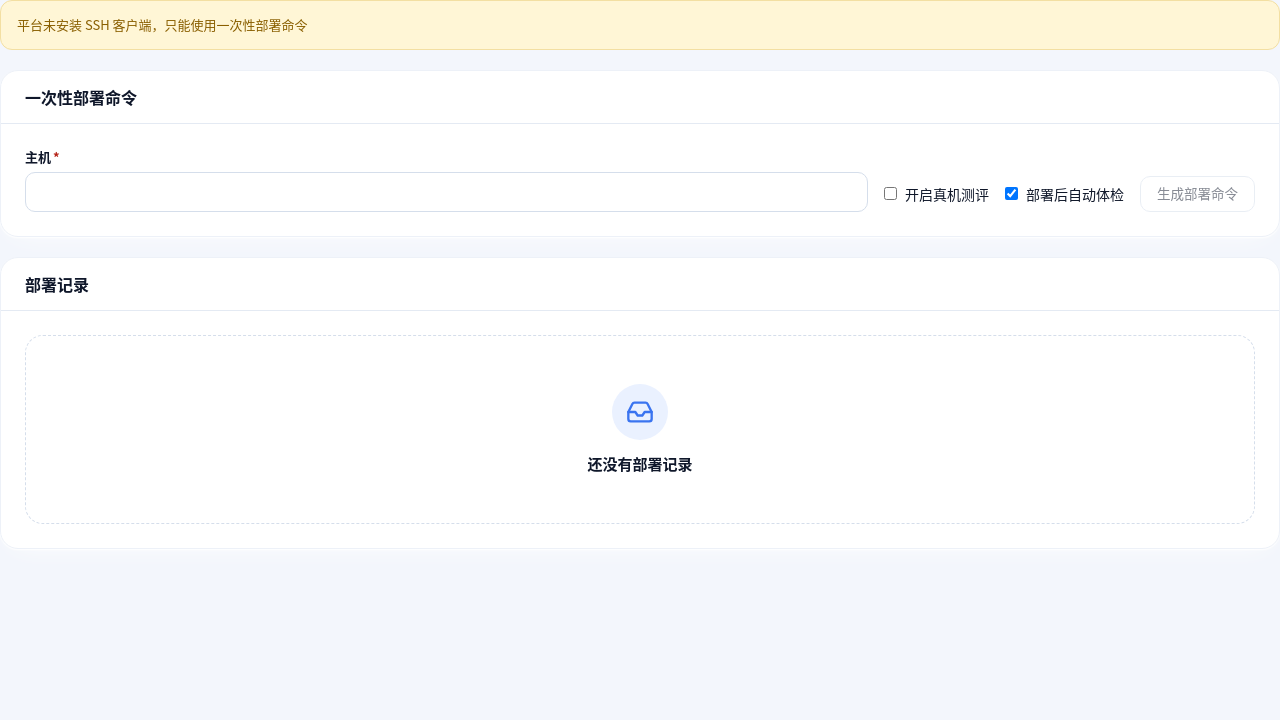
Test: RemoteDeployTab › capability.ssh = false 时不显示 SSH 表单，只有一次性部署命令
Expected: the text "平台未安装 SSH 客户端，只能使用一次性部署命令" is shown, [0,0,1279,50]
Type "10.0.0.9" into the field labelled "主机*" at (446, 192), box [25,172,868,212]
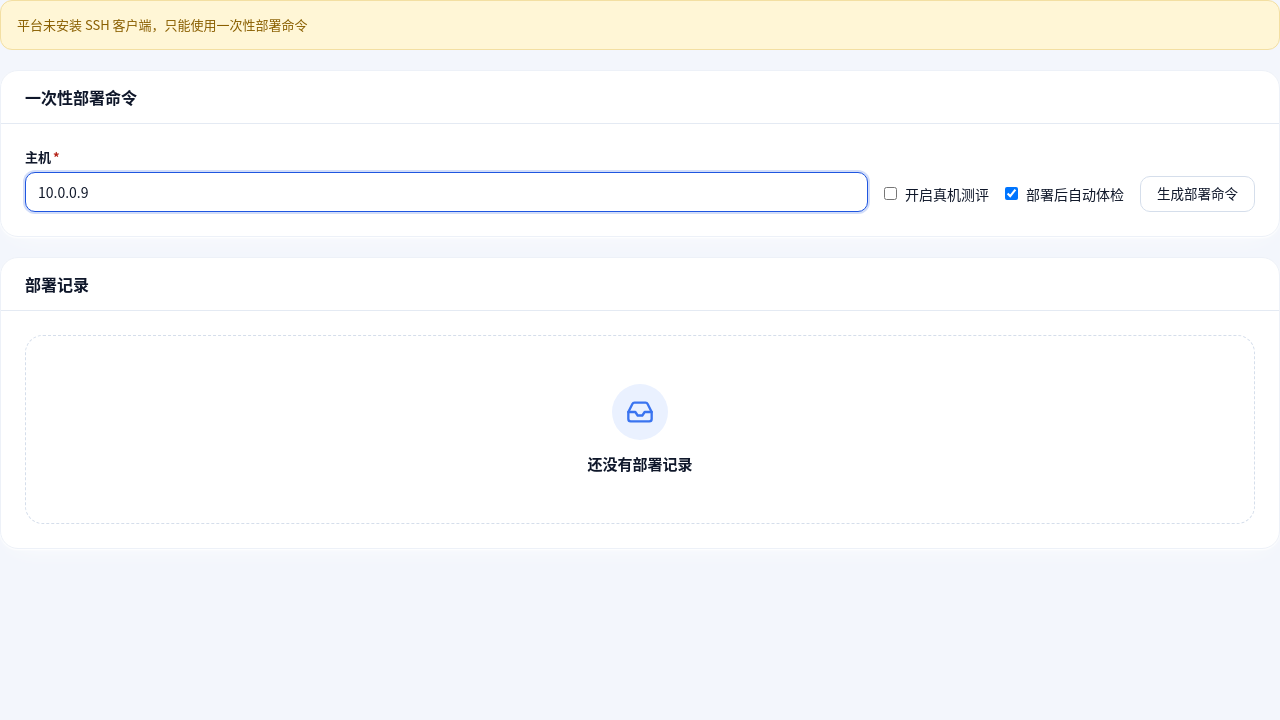
Click the button "生成部署命令" at (1198, 194), box [1140,176,1255,212]
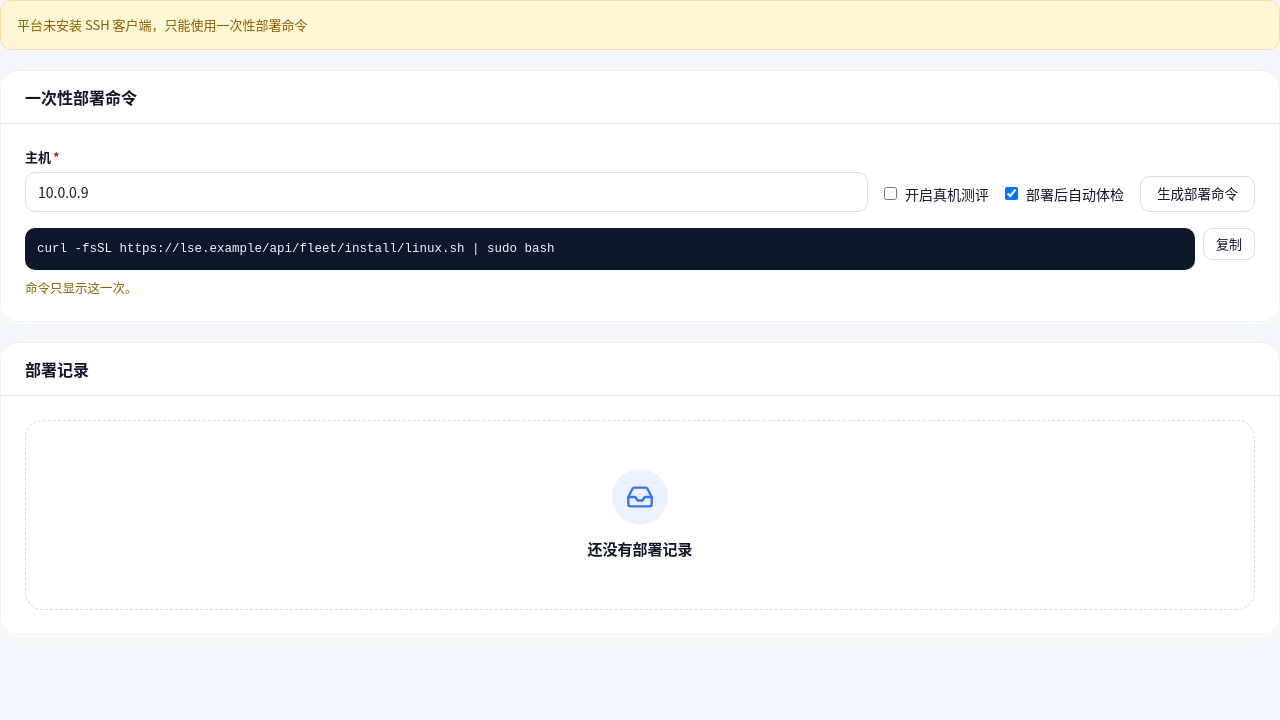
Now the text named "部署命令" shows "linux.sh", box [37,242,555,256]
